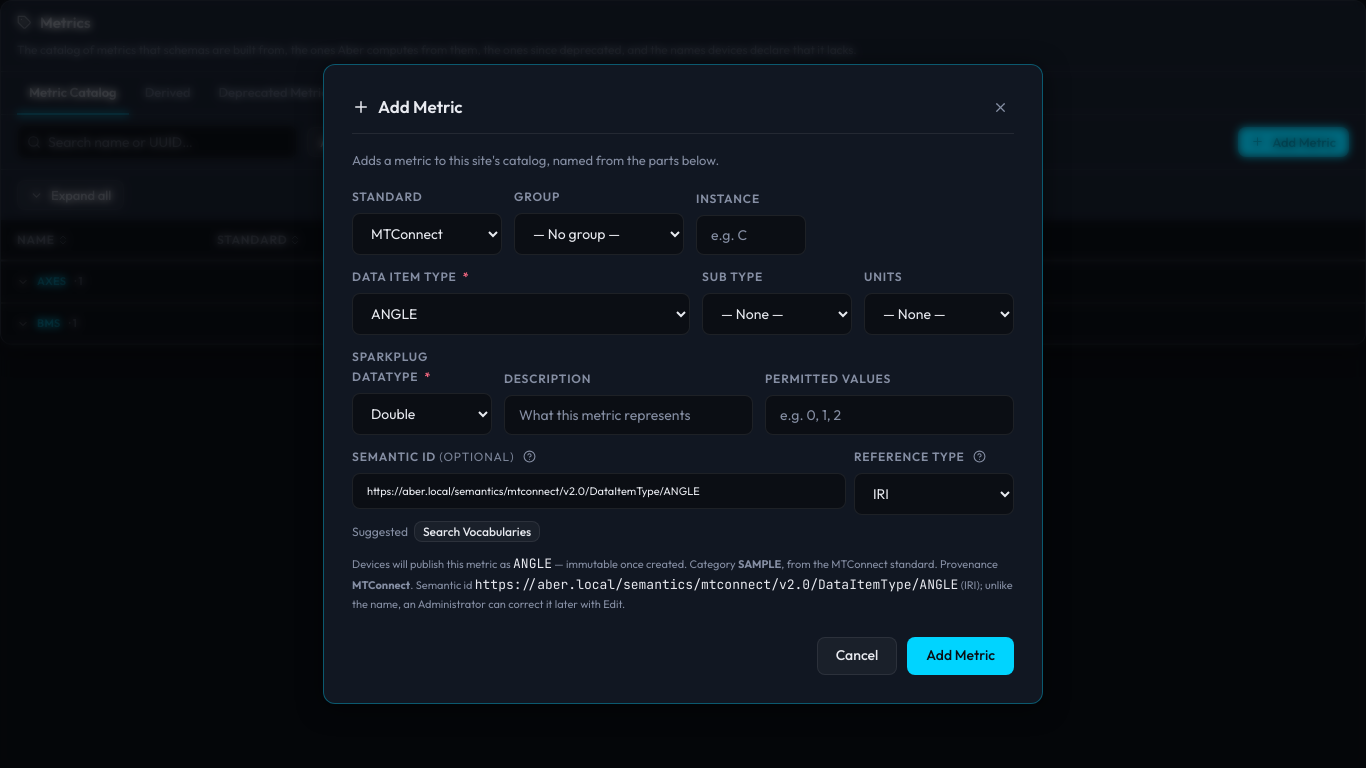
Add Metric and the QUDT quantity kinds › offers the kinds as the id of a Custom metric, and asks no replacement note of it
Select "Custom (local extension)" in the dropdown labelled "Standard" at (427, 234), box x1=352 y1=213 x2=502 y2=255
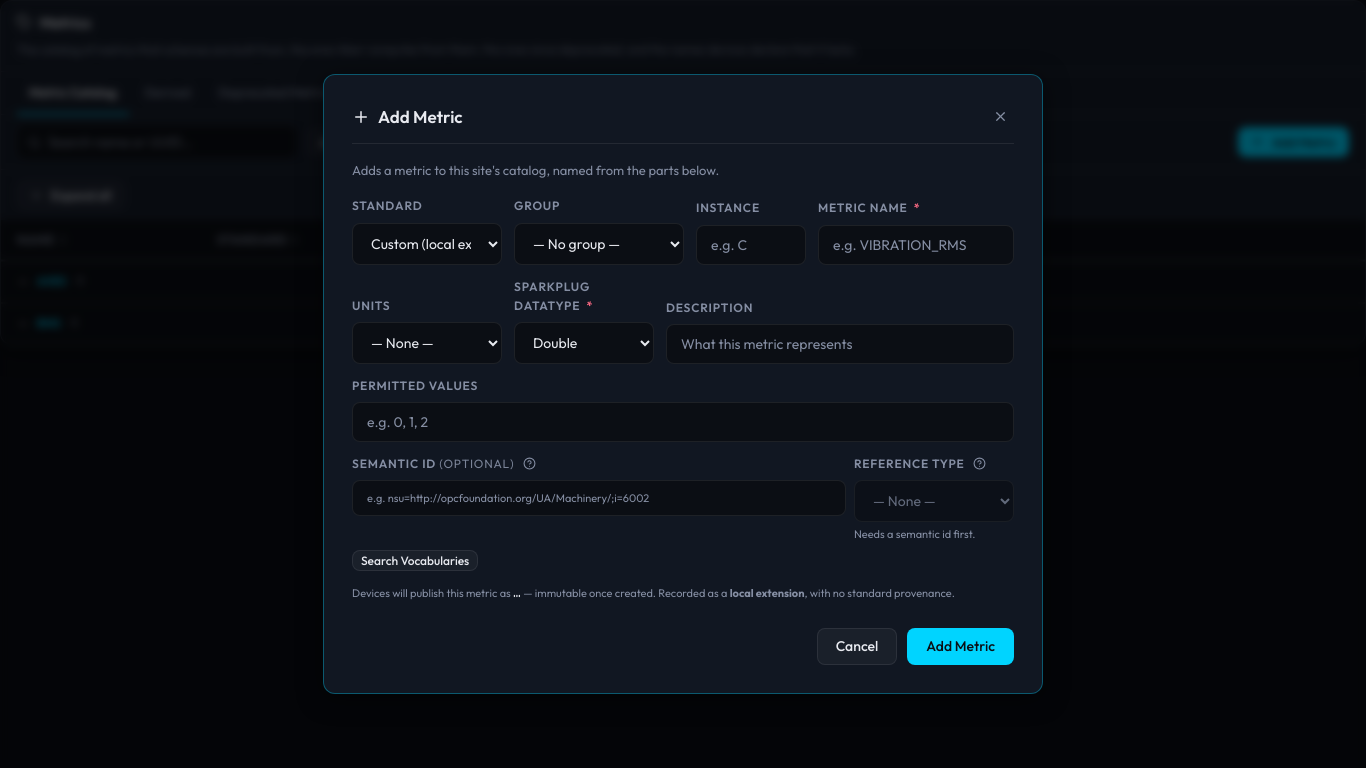
Click the button "Search Vocabularies".
click(415, 560)  # box x1=352 y1=550 x2=478 y2=571
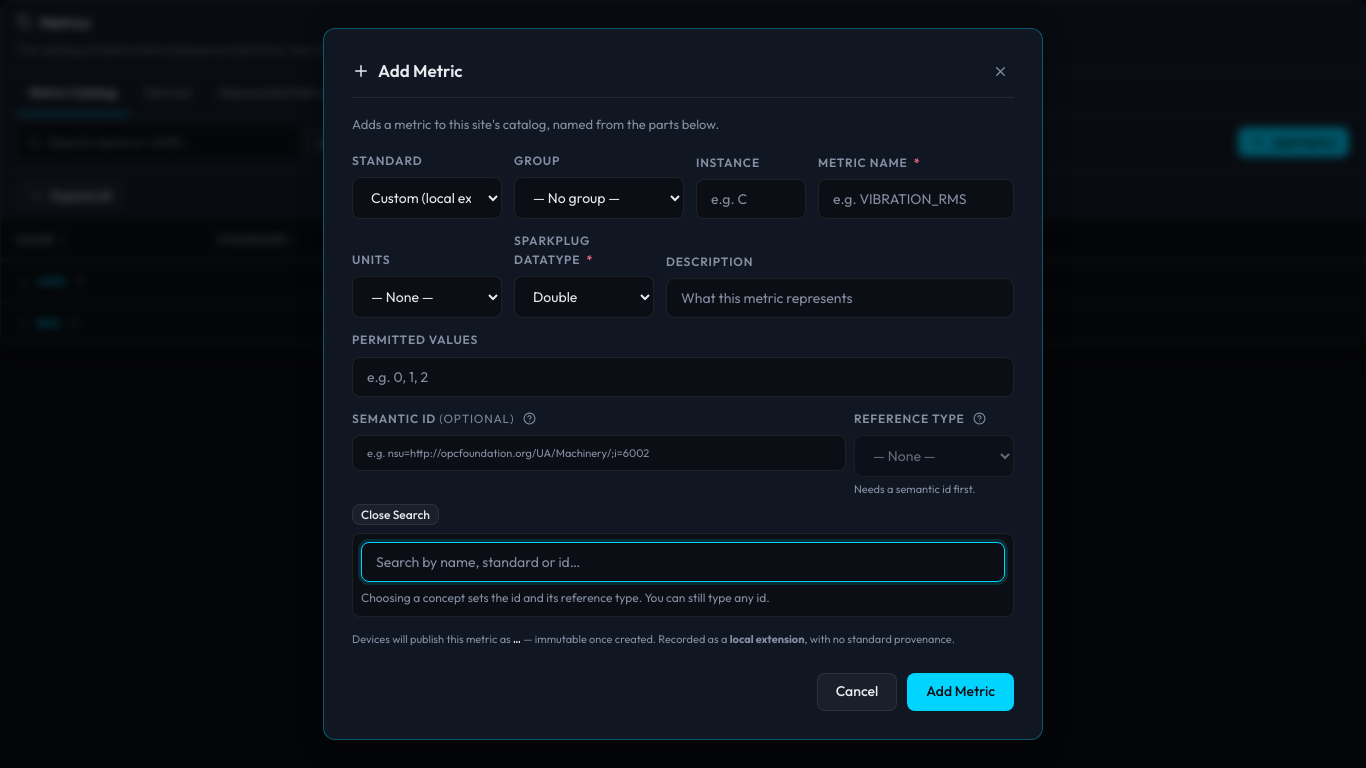
Type "flow rate" into the field named "Search the vocabularies and templates".
click(683, 562); type("flow rate")  # box x1=361 y1=542 x2=1005 y2=582
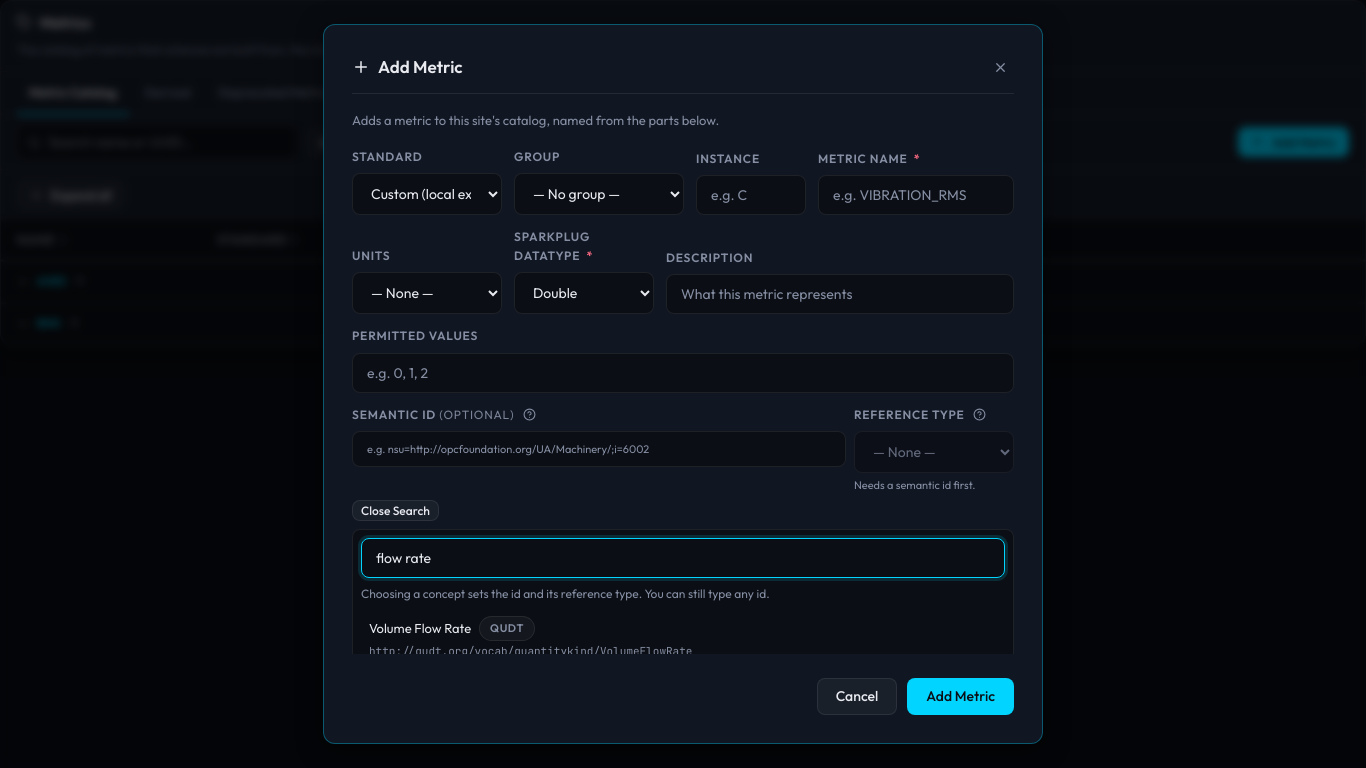
Click the button that starts with "Volume Flow Rate".
click(420, 628)  # box x1=361 y1=610 x2=1005 y2=667
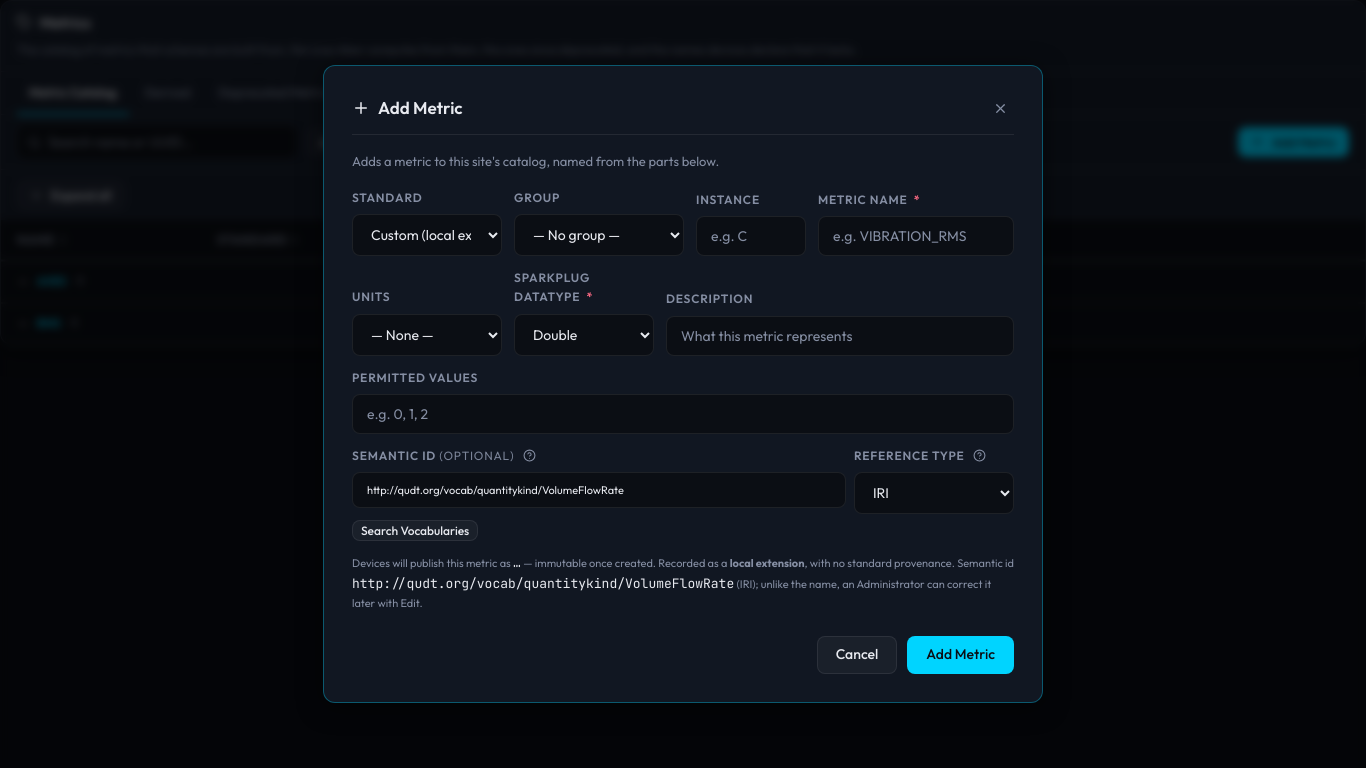
Expected: the dropdown labelled "Reference Type" shows "IRI", x1=854 y1=472 x2=1014 y2=514
